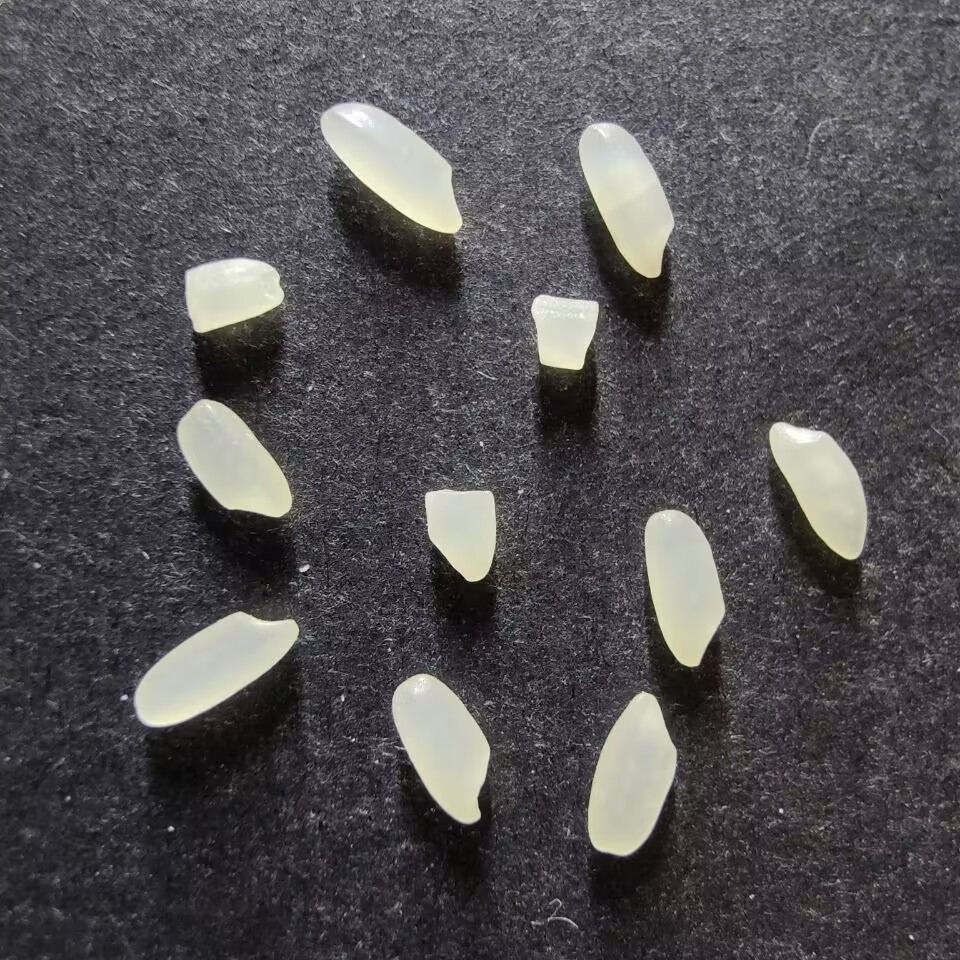broken: (183, 258, 284, 334), (422, 488, 498, 584), (530, 294, 600, 370)
rice: (134, 611, 300, 727), (319, 101, 462, 235), (577, 122, 675, 278), (586, 691, 678, 856), (391, 673, 490, 824), (175, 397, 293, 518), (768, 420, 869, 561), (643, 508, 726, 667)
